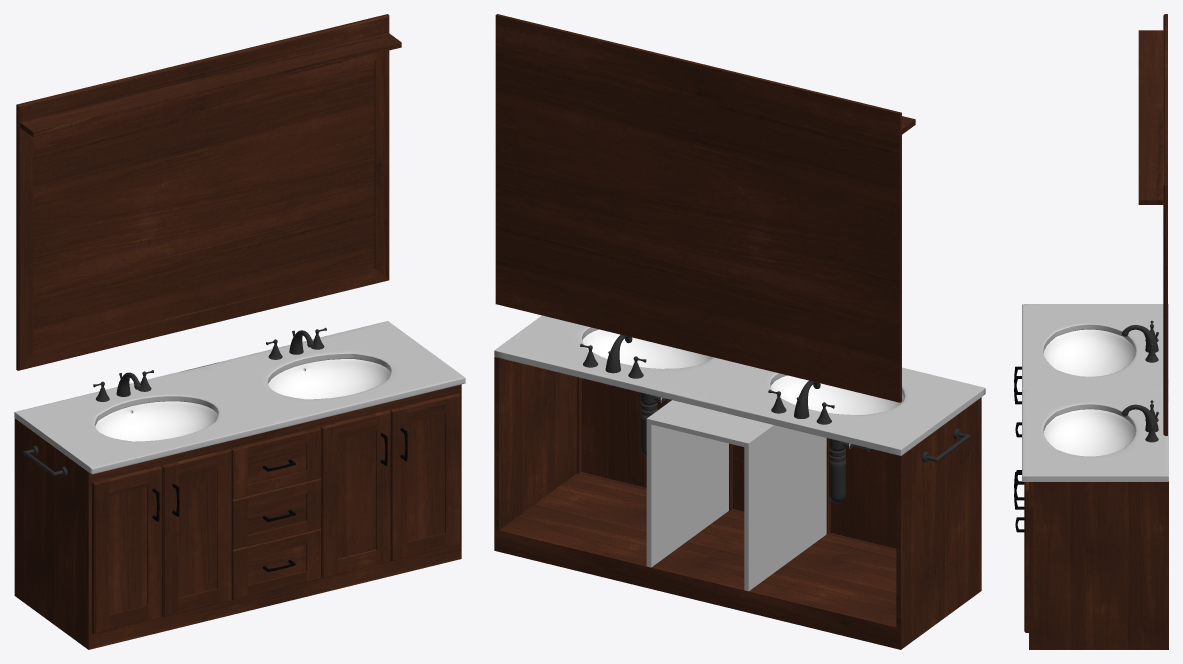
Rendered from double_vanity.obj.
The picture shows the model from 3 angles, left to right: view 1: azimuth 30°, elevation 25°; view 2: azimuth 150°, elevation 25°; view 3: azimuth 270°, elevation 25°; orthographic projection. The views are drawn at different scales.
Parts seen in each view (by area): view 1: mirror_Plane.008, marble_Circle, vanitybase_Cube.001, righdoor_righside_Plane.019, leftdoor_leftside_Plane.014, leftdoor_righside_Plane.018, rightdoor_leftsid_Plane.013, woodtape_Cube.002, drawer1_Plane.015, drawer2_Plane.016, drawer3_Plane.017, sink_Sphere (+1 smaller); view 2: mirror_Plane.008, vanitybase_Cube.001, marble_Circle, righdoor_righside_Plane.019, rightdoor_leftsid_Plane.013, sink_Sphere, sink2_Sphere.005, woodtape_Cube.002, drain_pipe, drain_pipe2_drain_pipe.001; view 3: vanitybase_Cube.001, marble_Circle, mirror_Plane.008, sink_Sphere, sink2_Sphere.005, woodtape_Cube.002, righdoor_righside_Plane.019, simpletap_Circle.001, simpletap2_Circle.006.
Part boxes in pixels (x1,y1,x2,y2): mirror_Plane.008: (16, 14, 401, 370); marble_Circle: (14, 321, 465, 474); vanitybase_Cube.001: (14, 418, 85, 647); righdoor_righside_Plane.019: (390, 393, 460, 561); leftdoor_leftside_Plane.014: (92, 465, 162, 633); leftdoor_righside_Plane.018: (320, 410, 390, 578); rightdoor_leftsid_Plane.013: (161, 448, 231, 616); woodtape_Cube.002: (86, 384, 461, 649); drawer1_Plane.015: (231, 427, 321, 499); drawer2_Plane.016: (231, 478, 321, 549); drawer3_Plane.017: (231, 528, 321, 599); sink_Sphere: (95, 401, 217, 441); mirror_Plane.008: (495, 14, 915, 402); vanitybase_Cube.001: (494, 357, 978, 649); marble_Circle: (494, 315, 985, 455); righdoor_righside_Plane.019: (582, 378, 646, 487); rightdoor_leftsid_Plane.013: (830, 444, 896, 548); sink_Sphere: (771, 375, 903, 415); sink2_Sphere.005: (582, 329, 712, 368); woodtape_Cube.002: (576, 377, 981, 592); drain_pipe: (829, 438, 870, 503); drain_pipe2_drain_pipe.001: (640, 392, 670, 456); vanitybase_Cube.001: (1033, 481, 1168, 649); marble_Circle: (1022, 304, 1168, 481); mirror_Plane.008: (1138, 14, 1167, 435); sink_Sphere: (1044, 329, 1135, 376); sink2_Sphere.005: (1044, 409, 1135, 456); woodtape_Cube.002: (1029, 482, 1033, 649); righdoor_righside_Plane.019: (1024, 482, 1028, 632); simpletap_Circle.001: (1122, 325, 1158, 352); simpletap2_Circle.006: (1122, 404, 1158, 432).
Bounding box in the file's own units: 1.85 × 2.25 × 0.6808.
Materials: 10 (3 with a texture image).
